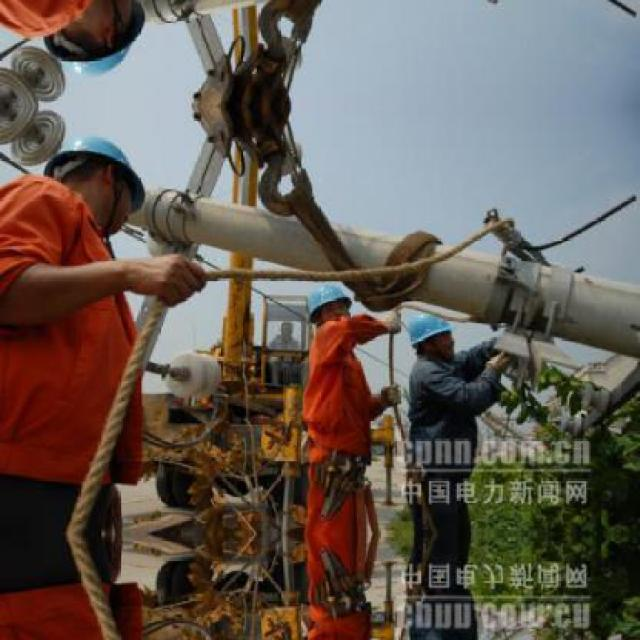hat: (38, 134, 151, 200), (302, 276, 362, 327), (403, 308, 455, 353)
